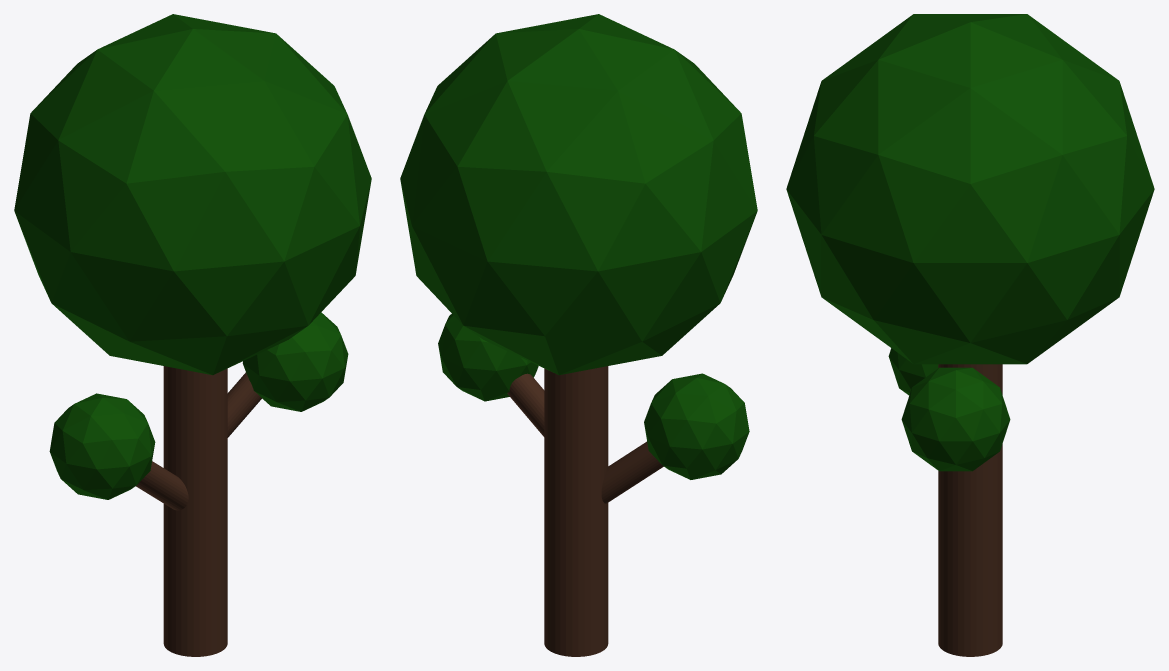
File: Arvore1 (1).fbx
3 renders of one model, left to right at view 1: azimuth 30°, elevation 25°; view 2: azimuth 150°, elevation 25°; view 3: azimuth 270°, elevation 25°, orthographic.
Visible parts, largest first — view 1: Icosphere, Cylinder, Icosphere.001, Icosphere.002, Cylinder.001, Cylinder.002; view 2: Icosphere, Cylinder, Icosphere.001, Icosphere.002, Cylinder.001, Cylinder.002; view 3: Icosphere, Cylinder, Icosphere.002, Icosphere.001.
Part boxes in pixels (<box>): Icosphere: <box>14,14,371,375</box>; Cylinder: <box>163,366,227,656</box>; Icosphere.001: <box>49,393,155,499</box>; Icosphere.002: <box>242,312,348,411</box>; Cylinder.001: <box>136,461,188,510</box>; Cylinder.002: <box>227,372,261,437</box>; Icosphere: <box>400,14,757,375</box>; Cylinder: <box>544,366,608,656</box>; Icosphere.001: <box>644,373,749,479</box>; Icosphere.002: <box>438,314,538,401</box>; Cylinder.001: <box>601,441,663,503</box>; Cylinder.002: <box>507,373,544,436</box>; Icosphere: <box>786,14,1154,364</box>; Cylinder: <box>938,364,1002,656</box>; Icosphere.002: <box>901,367,1010,471</box>; Icosphere.001: <box>888,348,938,395</box>.
Size of the model in its own units: 179 by 349 by 188.
6 materials, 6 textured.
